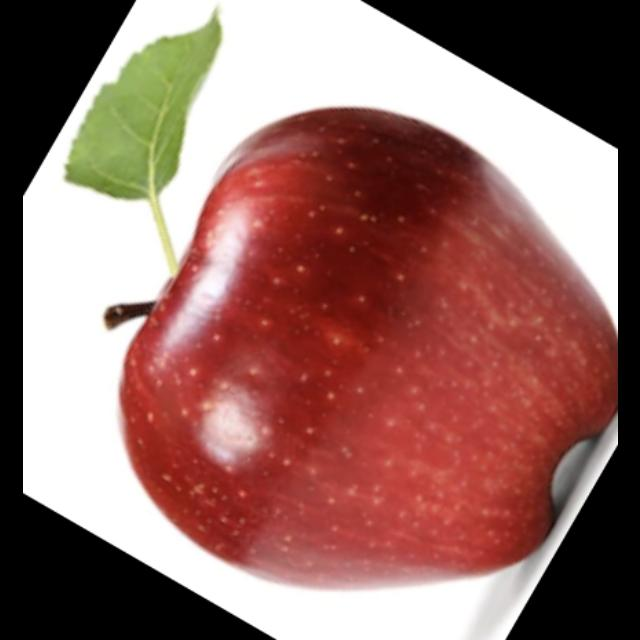Apel Segar: (48, 96, 618, 572)
